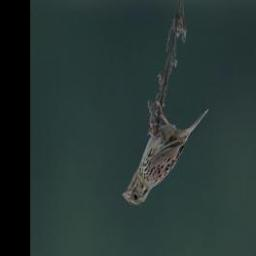Sparrow: (124, 100, 210, 208)
